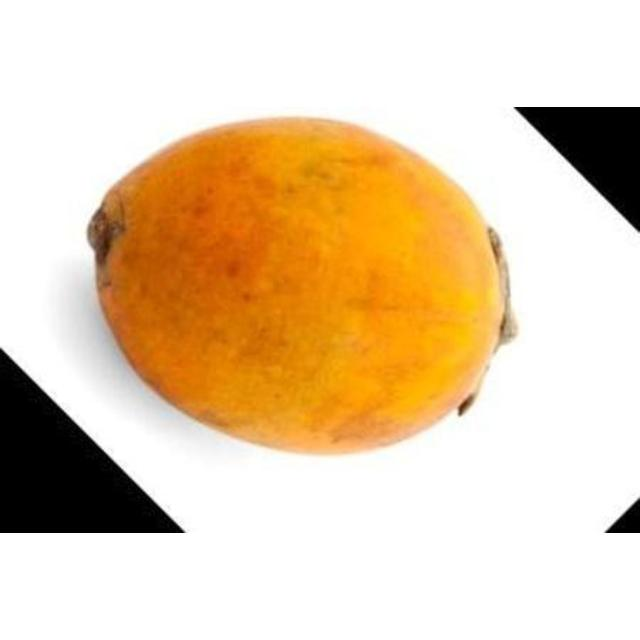good: (84, 117, 511, 460)
